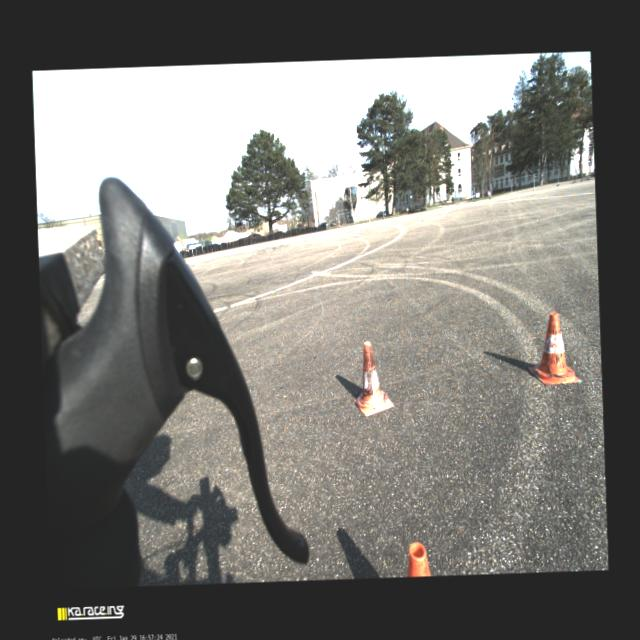orange_cone: (526, 312, 582, 385), (352, 340, 394, 416)
